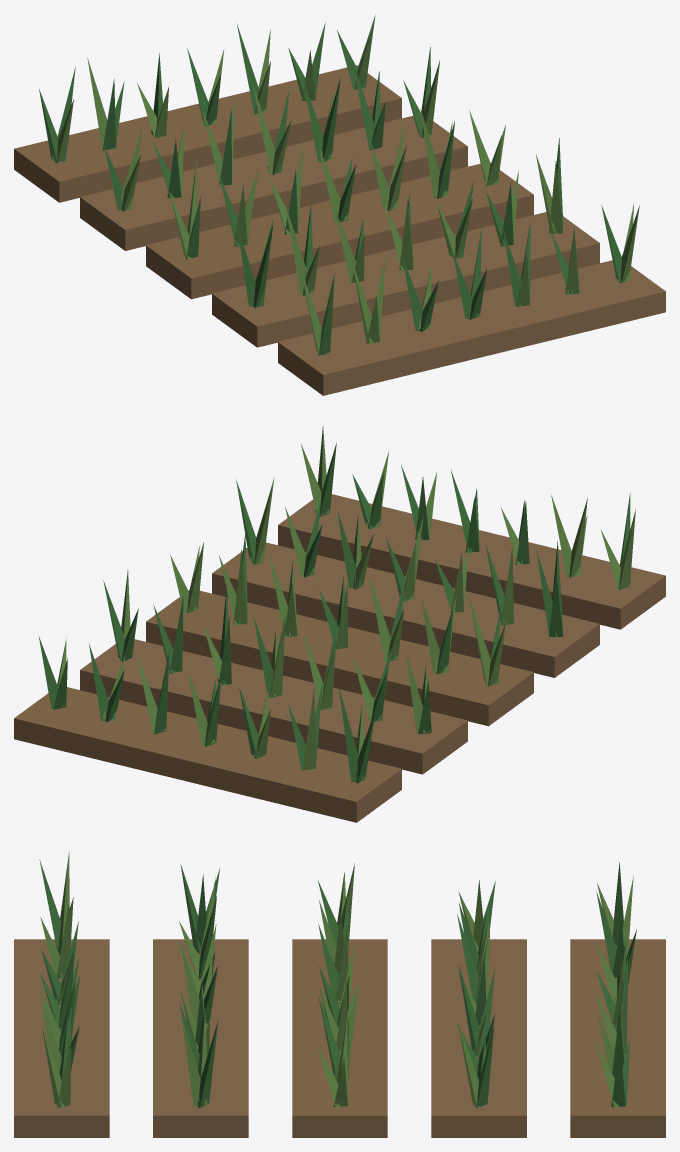
Rendered from crops.glb.
3 renders of one model, top to bottom at view 1: azimuth 30°, elevation 25°; view 2: azimuth 150°, elevation 25°; view 3: azimuth 270°, elevation 25°, orthographic. The views are drawn at different scales.
Parts seen in each view (by area): view 1: crops; view 2: crops; view 3: crops.
Boxes of the visible parts, box(x1,y1,x2,y2) form: crops: box(14, 14, 665, 395); crops: box(14, 425, 665, 822); crops: box(14, 851, 665, 1137).
Bounding box in the file's own units: 2.4 × 0.7457 × 3.75.
